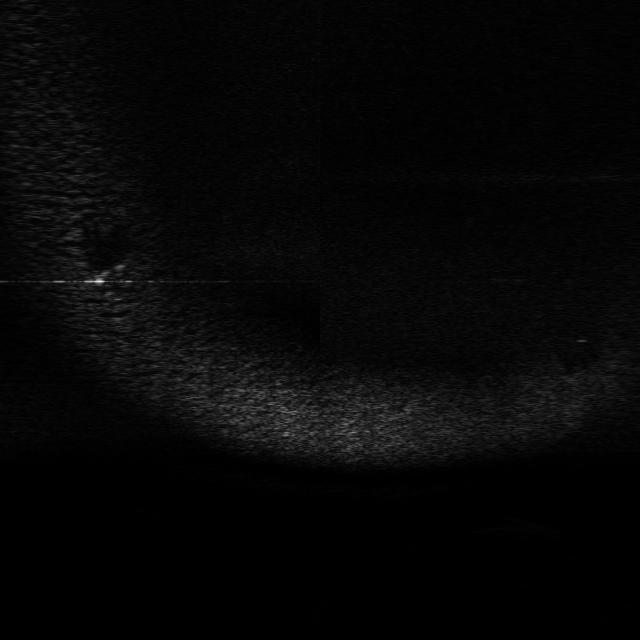plane: (84, 253, 136, 287)
